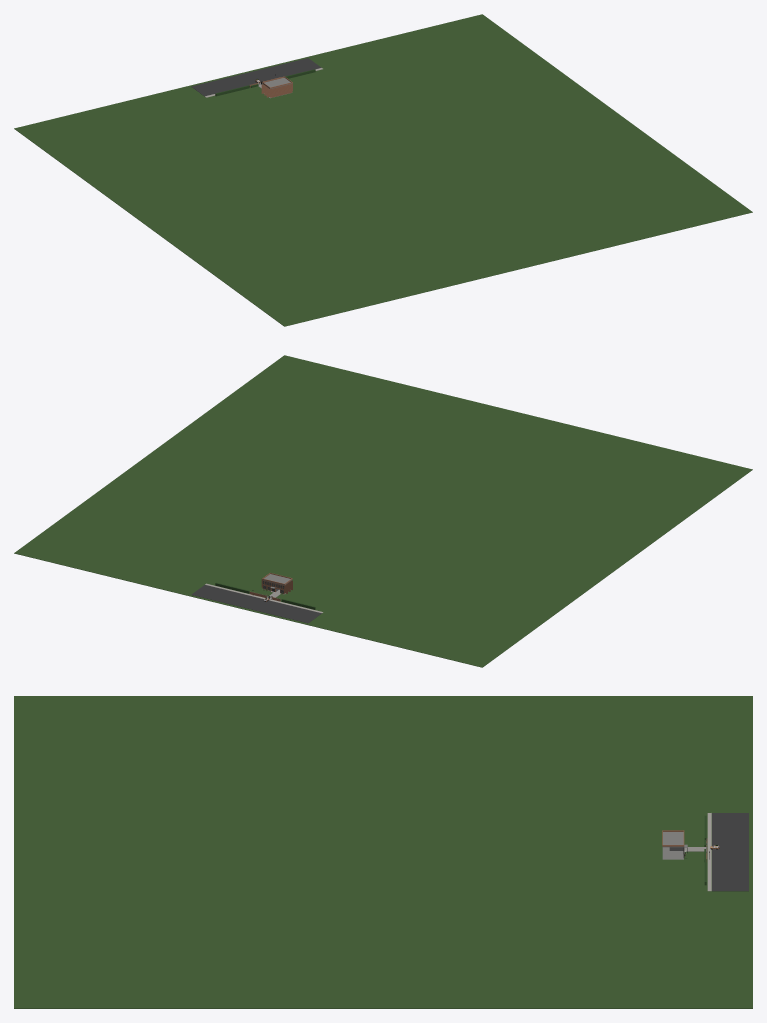
Rendered from casa.glb.
The picture shows the model from 3 angles, top to bottom: view 1: azimuth 30°, elevation 25°; view 2: azimuth 150°, elevation 25°; view 3: azimuth 270°, elevation 25°; orthographic projection. The views are drawn at different scales.
Parts seen in each view (by area): view 1: casa; view 2: casa; view 3: casa.
Part boxes in pixels (<box>): casa: <box>14,14,752,326</box>; casa: <box>14,355,752,667</box>; casa: <box>14,696,752,1008</box>.
Bounding box in the file's own units: 320 × 7.09 × 320.
Materials: 23 (9 with a texture image).
